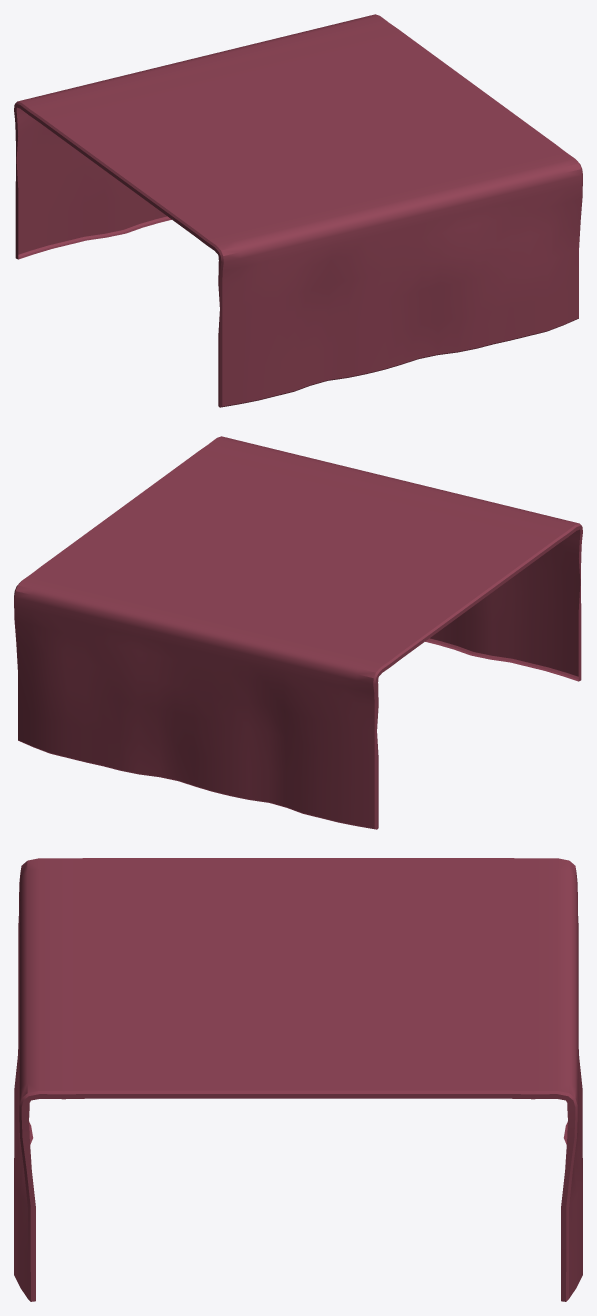
File: SM_Altar_Cloth.fbx
3 views of the same model, one above another, from view 1: azimuth 30°, elevation 25°; view 2: azimuth 150°, elevation 25°; view 3: azimuth 270°, elevation 25° (orthographic). The views are drawn at different scales.
Parts seen in each view (by area): view 1: altarCloth; view 2: altarCloth; view 3: altarCloth.
Part boxes in pixels (x1,y1,x2,y2): altarCloth: (14, 14, 582, 407); altarCloth: (14, 436, 582, 829); altarCloth: (14, 858, 582, 1301).
Bounding box in the file's own units: 294 × 123 × 302.
